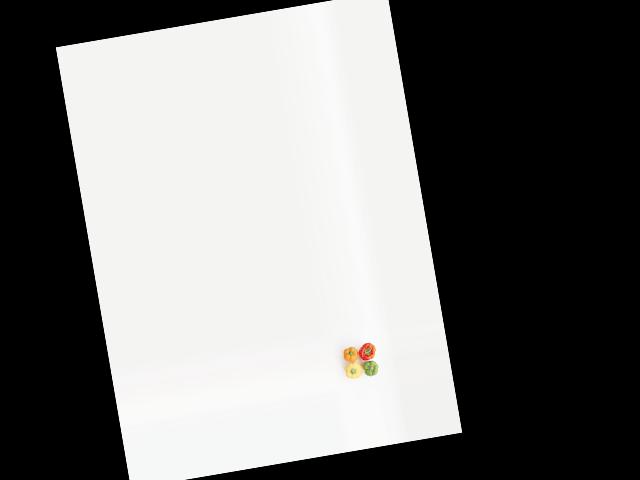bell_pepper: (360, 355, 381, 382)
